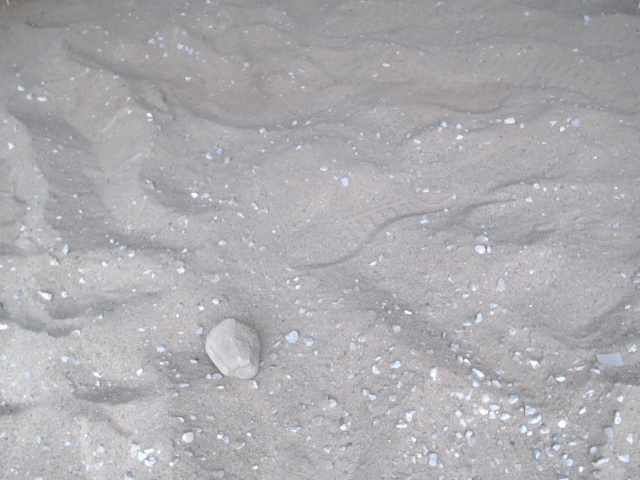rock: (198, 312, 269, 388)
